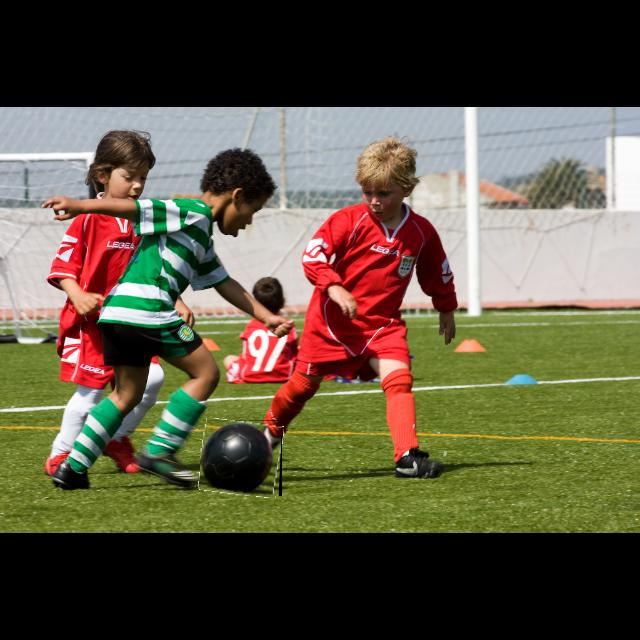Football: (200, 420, 282, 496)
